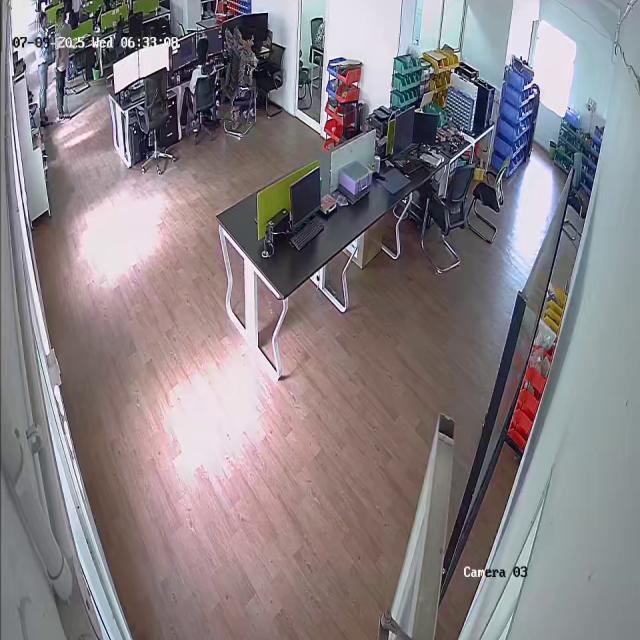person: (220, 27, 261, 123), (51, 12, 77, 123), (33, 12, 56, 127)
